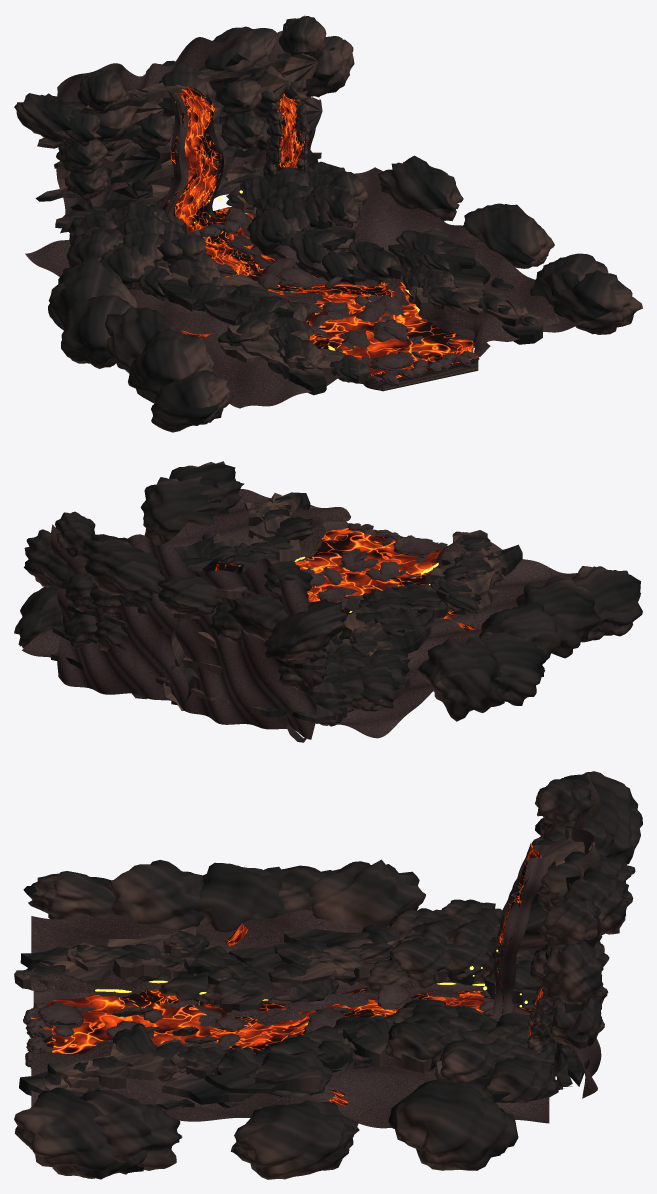
File: b4-magma-river-p3-v5.glb
3 views of the same model, one above another, from view 1: azimuth 30°, elevation 25°; view 2: azimuth 150°, elevation 25°; view 3: azimuth 270°, elevation 25° (orthographic). The views are drawn at different scales.
Visible parts, largest first — view 1: ERODED_BASALT_BANK_1, ERODED_BASALT_BANK_-1, CONTINUOUS_FRACTURED_BASALT_CLIFF, FALLING_MAGMA_CASCADE, MEANDERING_MOLTEN_CHANNEL, MOLTEN_POOL_WIDENING, CAVERN_ROCK_FACE, CAVERN_ROCK_FACE.001, CAVERN_ROCK_FACE.008, CAVERN_ROCK_FACE.005, CAVERN_ROCK_FACE.004, CAVERN_ROCK_FACE.007 (+52 smaller); view 2: CONTINUOUS_FRACTURED_BASALT_CLIFF, ERODED_BASALT_BANK_-1, CAVERN_ROCK_FACE.009, ERODED_BASALT_BANK_1, MOLTEN_POOL_WIDENING, REAR_IRREGULAR_BASALT_OVERHANG.003, CAVERN_ROCK_FACE.006, CAVERN_ROCK_FACE.001, CAVERN_ROCK_FACE.005, REAR_IRREGULAR_BASALT_OVERHANG, CAVERN_ROCK_FACE.007, CAVERN_ROCK_FACE.003 (+36 smaller); view 3: ERODED_BASALT_BANK_1, ERODED_BASALT_BANK_-1, CAVERN_ROCK_FACE.004, CAVERN_ROCK_FACE, CAVERN_ROCK_FACE.008, CAVERN_ROCK_FACE.009, CAVERN_ROCK_FACE.001, MOLTEN_POOL_WIDENING, CAVERN_ROCK_FACE.003, CAVERN_ROCK_FACE.006, MEANDERING_MOLTEN_CHANNEL, CAVERN_ROCK_FACE.005 (+57 smaller).
Part boxes in pixels (x1,y1,x2,y2): ERODED_BASALT_BANK_1: [230, 167, 589, 350]; ERODED_BASALT_BANK_-1: [25, 240, 379, 408]; CONTINUOUS_FRACTURED_BASALT_CLIFF: [56, 15, 315, 233]; FALLING_MAGMA_CASCADE: [162, 86, 221, 233]; MEANDERING_MOLTEN_CHANNEL: [199, 207, 479, 382]; MOLTEN_POOL_WIDENING: [309, 303, 459, 374]; CAVERN_ROCK_FACE: [463, 203, 554, 268]; CAVERN_ROCK_FACE.001: [128, 328, 213, 403]; CAVERN_ROCK_FACE.008: [552, 270, 642, 334]; CAVERN_ROCK_FACE.005: [151, 370, 233, 432]; CAVERN_ROCK_FACE.004: [378, 155, 463, 221]; CAVERN_ROCK_FACE.007: [61, 295, 134, 368]; CONTINUOUS_FRACTURED_BASALT_CLIFF: [50, 524, 316, 739]; ERODED_BASALT_BANK_-1: [326, 531, 577, 738]; CAVERN_ROCK_FACE.009: [417, 636, 508, 721]; ERODED_BASALT_BANK_1: [22, 489, 350, 657]; MOLTEN_POOL_WIDENING: [295, 532, 442, 599]; REAR_IRREGULAR_BASALT_OVERHANG.003: [77, 538, 165, 602]; CAVERN_ROCK_FACE.006: [140, 476, 228, 545]; CAVERN_ROCK_FACE.001: [516, 575, 600, 658]; CAVERN_ROCK_FACE.005: [571, 566, 642, 642]; REAR_IRREGULAR_BASALT_OVERHANG: [264, 599, 347, 660]; CAVERN_ROCK_FACE.007: [479, 631, 546, 705]; CAVERN_ROCK_FACE.003: [479, 602, 561, 660]; ERODED_BASALT_BANK_1: [31, 1015, 549, 1128]; ERODED_BASALT_BANK_-1: [31, 910, 484, 1002]; CAVERN_ROCK_FACE.004: [388, 1079, 518, 1170]; CAVERN_ROCK_FACE: [230, 1100, 359, 1179]; CAVERN_ROCK_FACE.008: [14, 1087, 122, 1179]; CAVERN_ROCK_FACE.009: [309, 859, 425, 928]; CAVERN_ROCK_FACE.001: [104, 860, 204, 929]; MOLTEN_POOL_WIDENING: [46, 993, 237, 1054]; CAVERN_ROCK_FACE.003: [194, 862, 291, 932]; CAVERN_ROCK_FACE.006: [86, 1092, 182, 1170]; MEANDERING_MOLTEN_CHANNEL: [31, 988, 531, 1053]; CAVERN_ROCK_FACE.005: [23, 871, 115, 919].
Size of the model in its own units: 8.52 by 3.31 by 8.14.
Materials: 7 (4 with a texture image).
